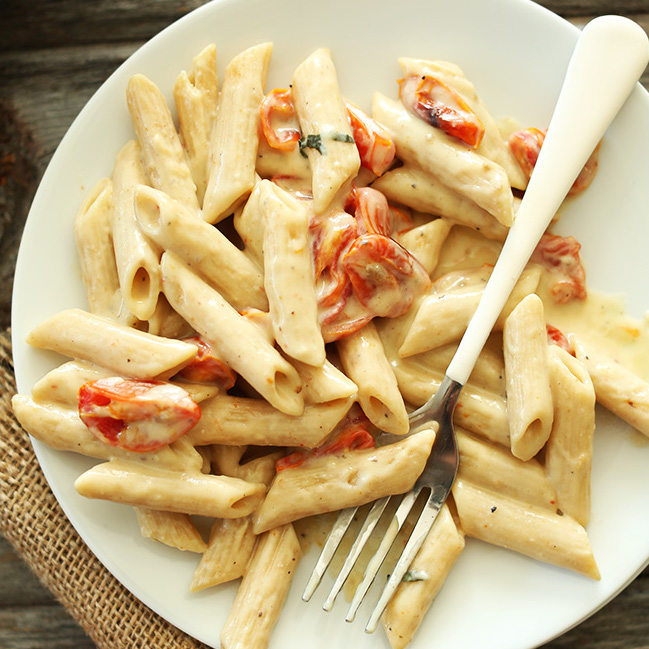plain spaghetti: (151, 108, 376, 464)
